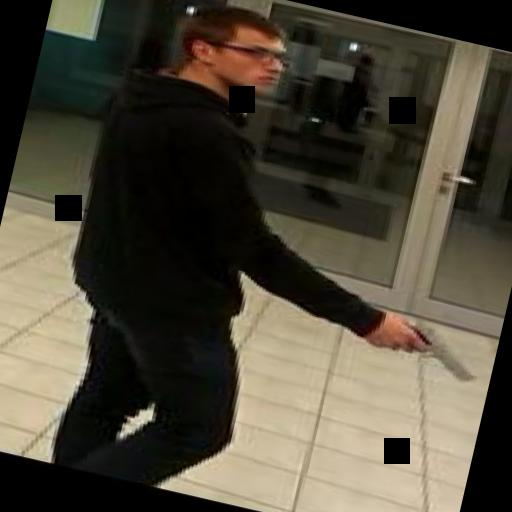Handgun: (368, 305, 484, 386)
